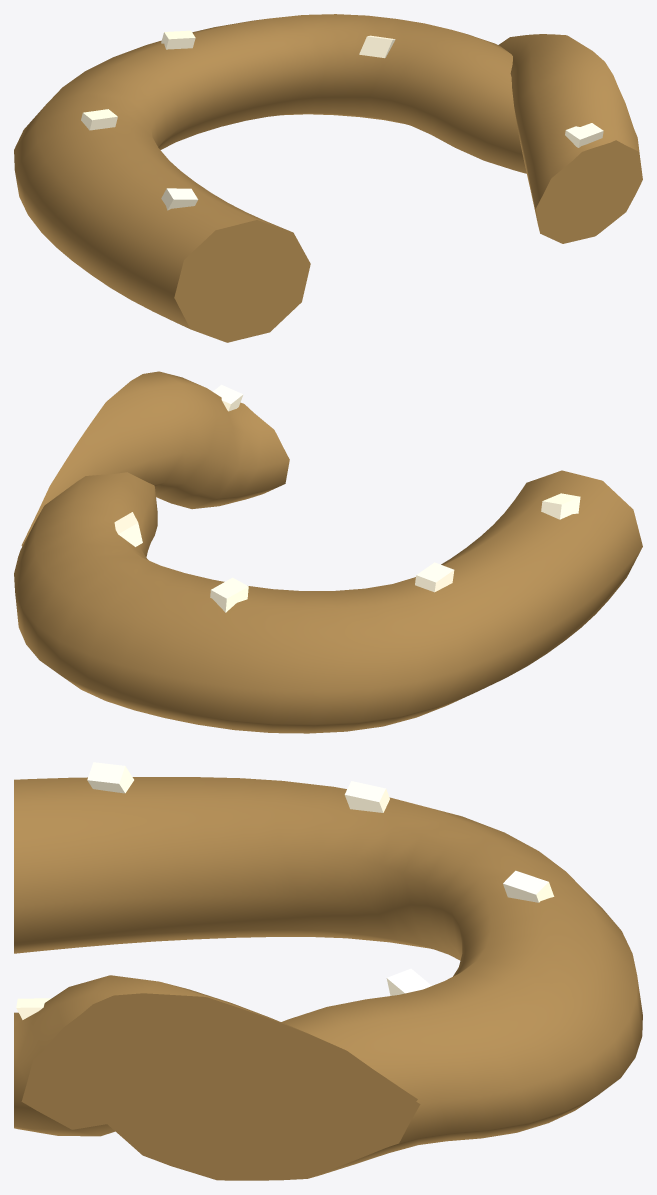
Rendered from shot_superpretzel_b110.glb.
The picture shows the model from 3 angles, top to bottom: view 1: azimuth 30°, elevation 25°; view 2: azimuth 150°, elevation 25°; view 3: azimuth 270°, elevation 25°; orthographic projection. The views are drawn at different scales.
Parts seen in each view (by area): view 1: sp_rope_b110, sp_salt.015_b110, sp_salt.001_b110, sp_salt.016_b110, sp_salt.018_b110, sp_salt.017_b110; view 2: sp_rope_b110, sp_salt.017_b110, sp_salt.016_b110, sp_salt.015_b110, sp_salt.018_b110; view 3: sp_rope_b110, sp_salt.017_b110, sp_salt.015_b110, sp_salt.016_b110, sp_salt.018_b110.
Boxes of the visible parts, box(x1,y1,x2,y2) form: sp_rope_b110: box(14, 14, 642, 342); sp_salt.015_b110: box(161, 188, 198, 210); sp_salt.001_b110: box(565, 123, 603, 147); sp_salt.016_b110: box(81, 109, 117, 130); sp_salt.018_b110: box(359, 35, 395, 58); sp_salt.017_b110: box(161, 30, 195, 49); sp_rope_b110: box(14, 371, 642, 733); sp_salt.017_b110: box(210, 577, 248, 612); sp_salt.016_b110: box(415, 562, 454, 592); sp_salt.015_b110: box(541, 493, 580, 519); sp_salt.018_b110: box(114, 512, 142, 546); sp_rope_b110: box(14, 777, 642, 1180); sp_salt.017_b110: box(503, 870, 554, 902); sp_salt.015_b110: box(87, 762, 133, 793); sp_salt.016_b110: box(344, 781, 389, 812); sp_salt.018_b110: box(386, 968, 431, 995).
Bounding box in the file's own units: 11.39 × 3.43 × 10.42.
